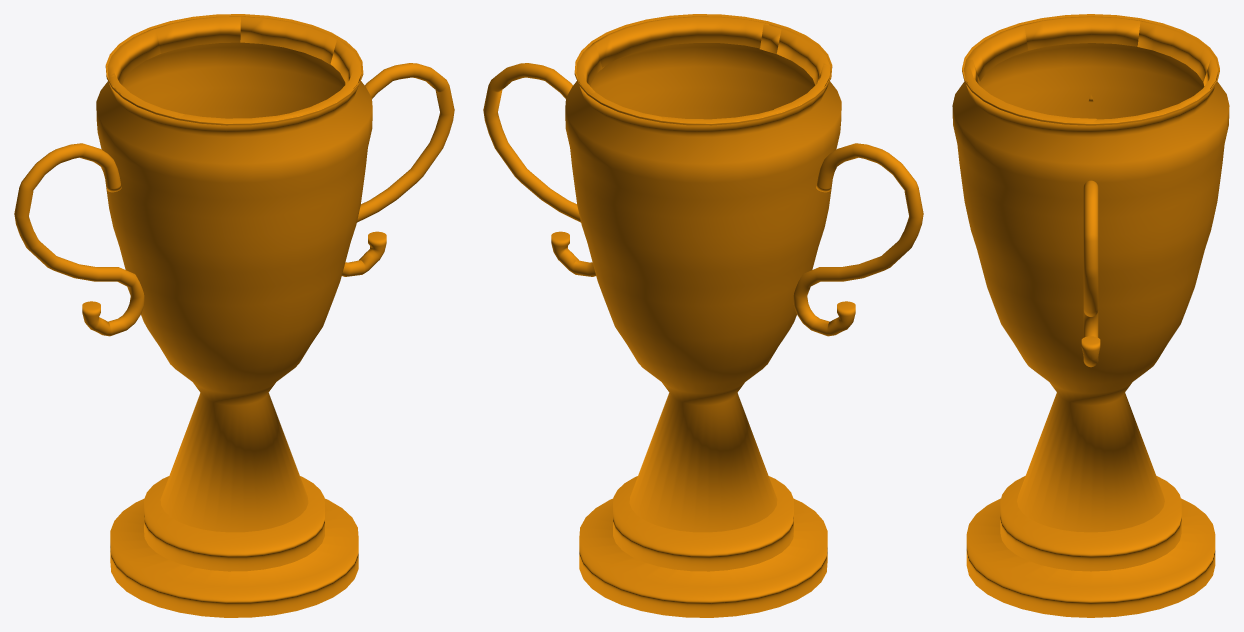
Rendered from Trophy2.fbx.
3 renders of one model, left to right at view 1: azimuth 30°, elevation 25°; view 2: azimuth 150°, elevation 25°; view 3: azimuth 270°, elevation 25°, orthographic.
Visible parts, largest first — view 1: Trophy; view 2: Trophy; view 3: Trophy.
Part boxes in pixels (x1,y1,x2,y2): Trophy: (14, 14, 454, 617); Trophy: (483, 14, 923, 617); Trophy: (952, 14, 1229, 617).
Bounding box in the file's own units: 269 × 292 × 147.
